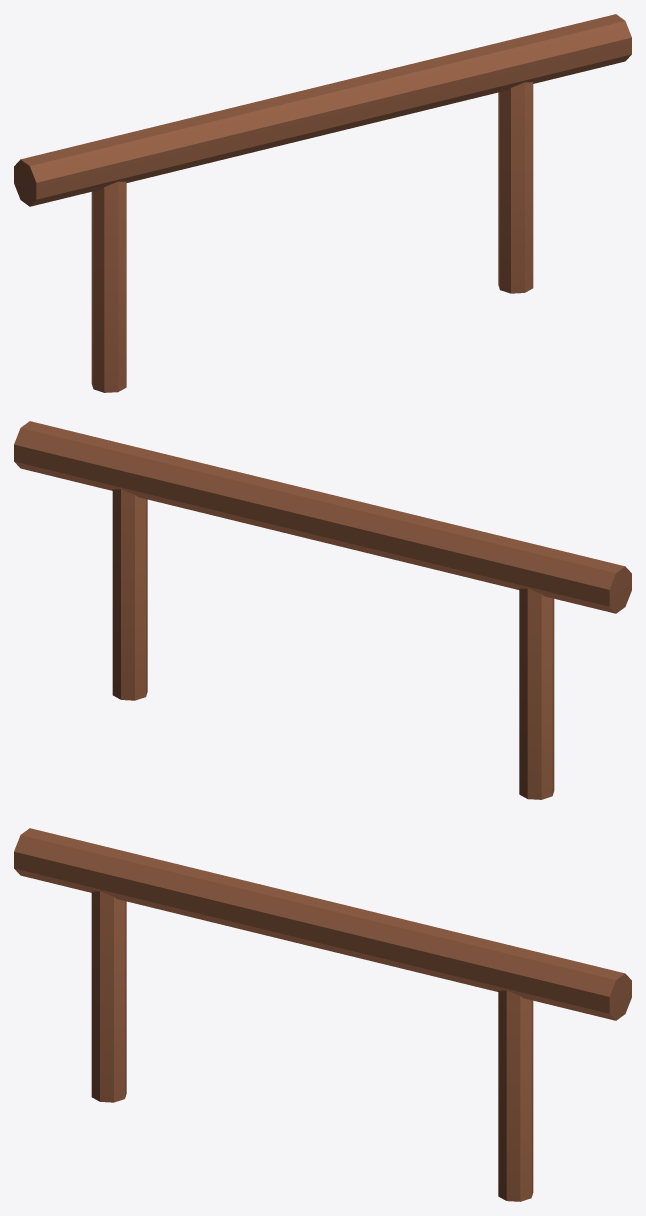
Rendered from hitching post.fbx.
The picture shows the model from 3 angles, top to bottom: view 1: azimuth 30°, elevation 25°; view 2: azimuth 150°, elevation 25°; view 3: azimuth 330°, elevation 25°; orthographic projection.
Visible parts, largest first — view 1: hitching post; view 2: hitching post; view 3: hitching post.
Boxes of the visible parts, bbox=[...] form: hitching post: bbox=[14, 14, 631, 392]; hitching post: bbox=[14, 421, 631, 799]; hitching post: bbox=[14, 828, 631, 1201].
Size of the model in its own units: 238 by 92.71 by 15.5.
